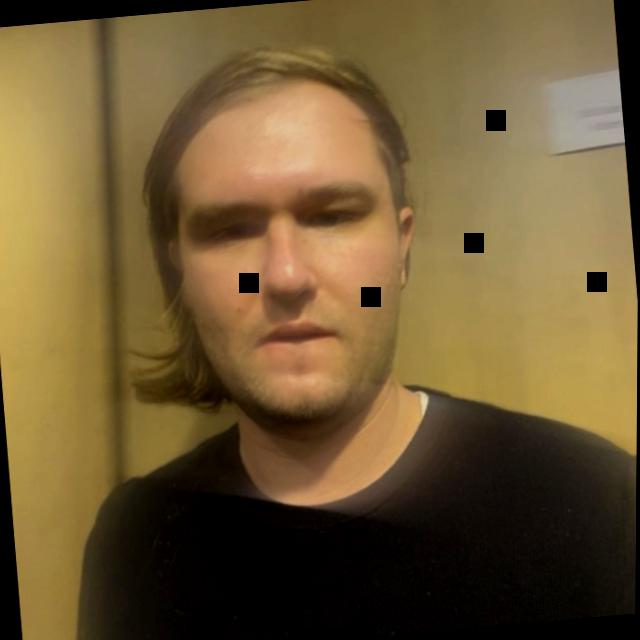NO-Mask: (70, 0, 461, 537)
